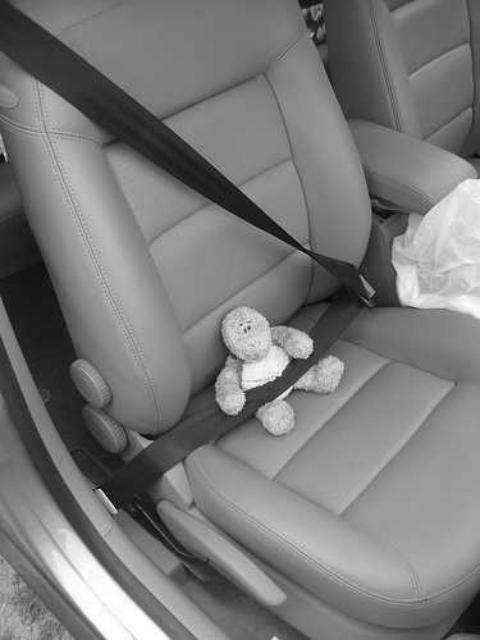Seatbelt: (0, 0, 377, 472)
